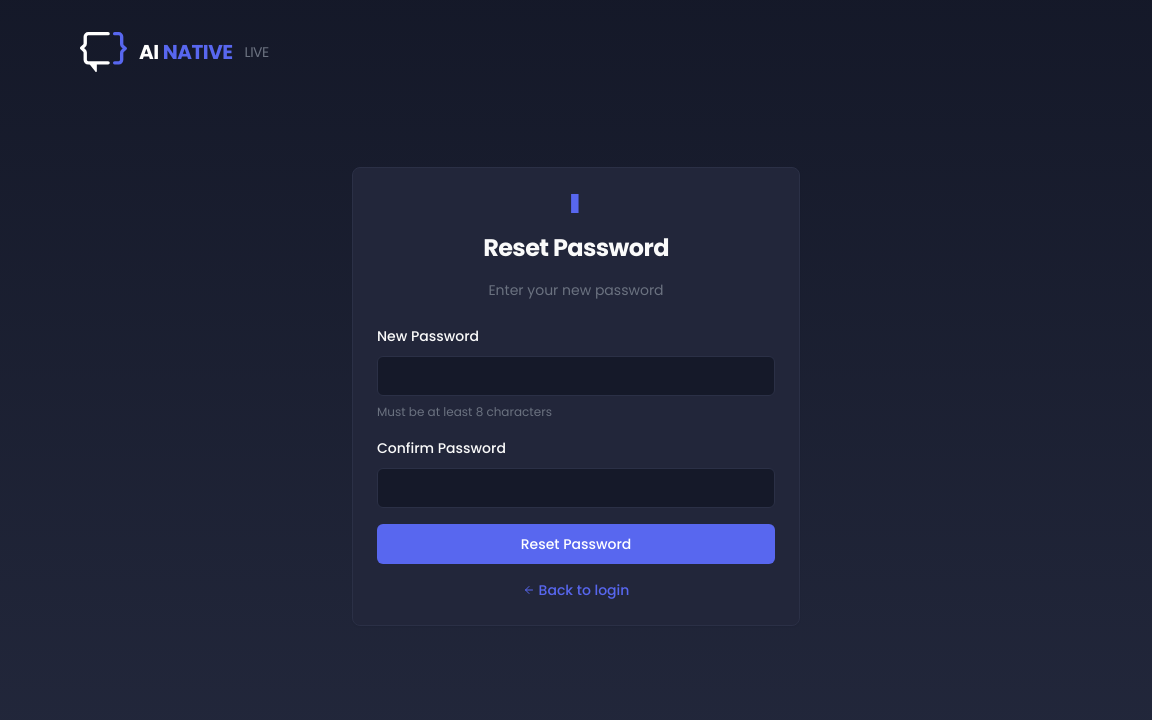
Test: ResetPasswordPage › API Integration › should handle invalid/expired token error
Type "NewPassword123!" into the password field labelled "New Password" at (576, 376), box [377,356,775,396]
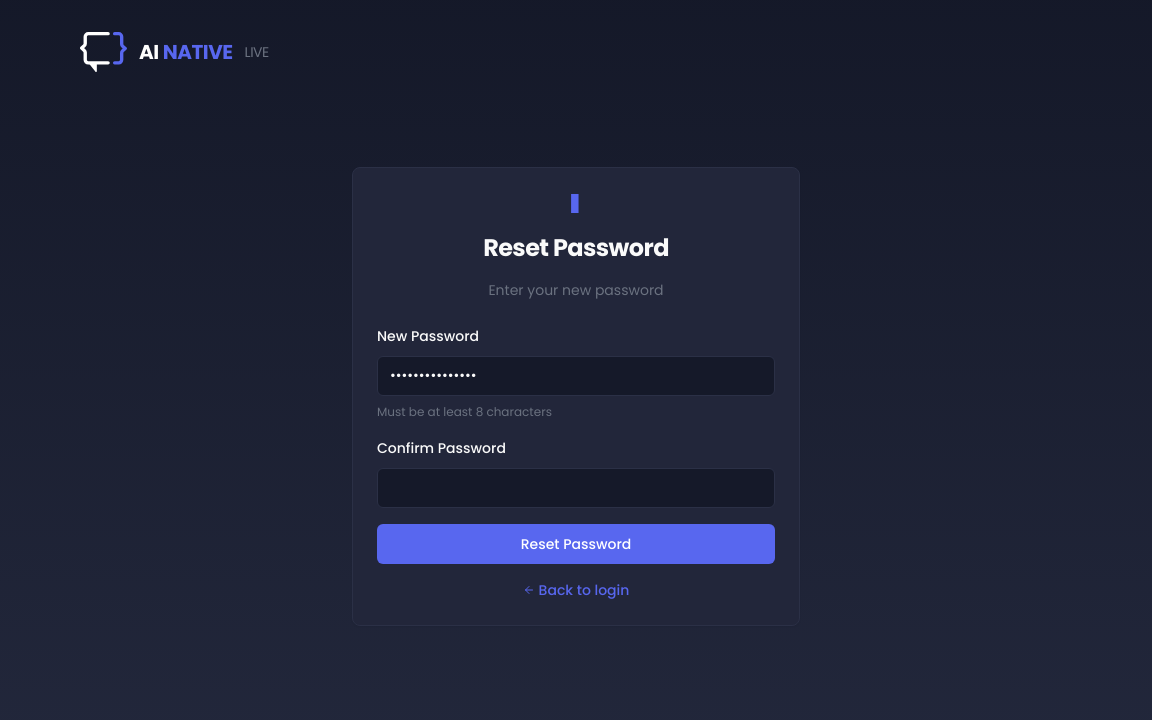
Type "NewPassword123!" into the password field labelled "Confirm Password" at (576, 488), box [377,468,775,508]
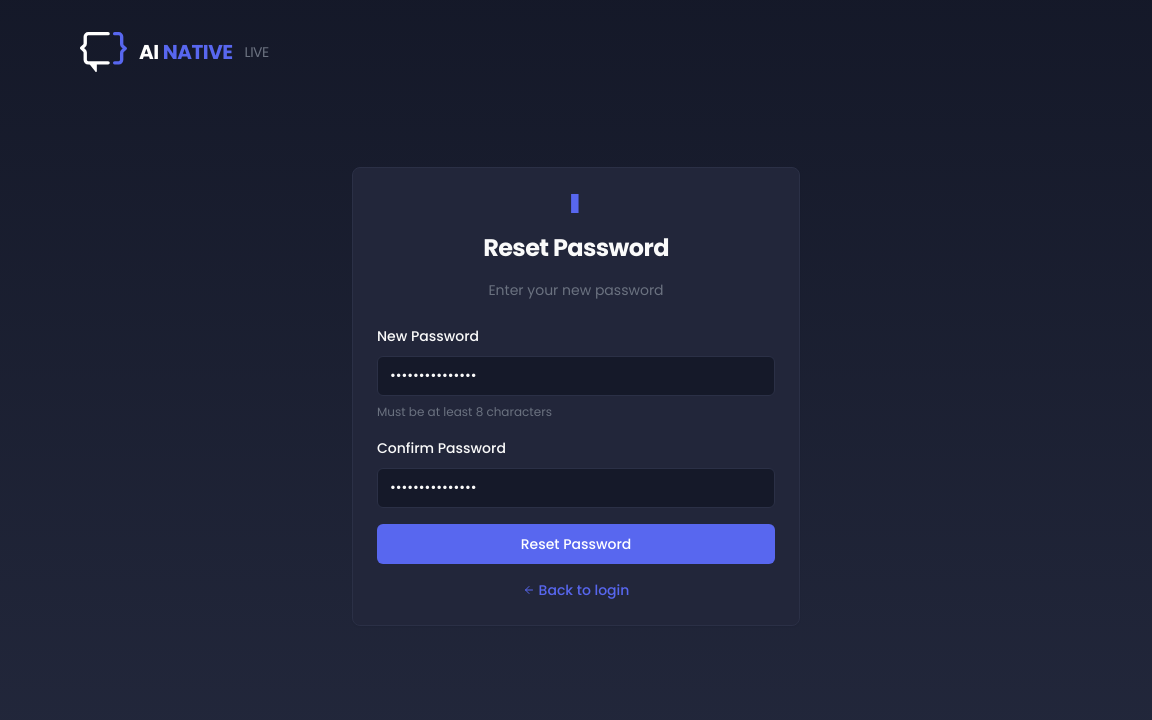
Click the button "Reset Password" at (576, 544), box [377,524,775,564]
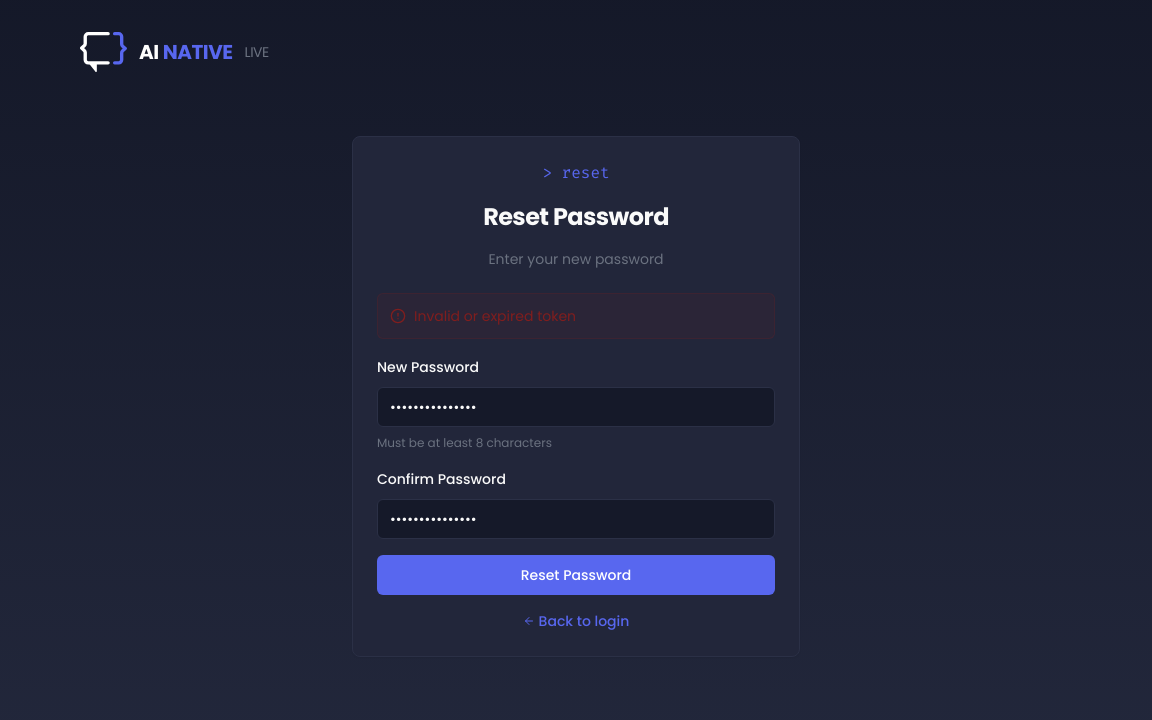
Result: the text "Invalid or expired token" is shown at [414,306,576,326]
